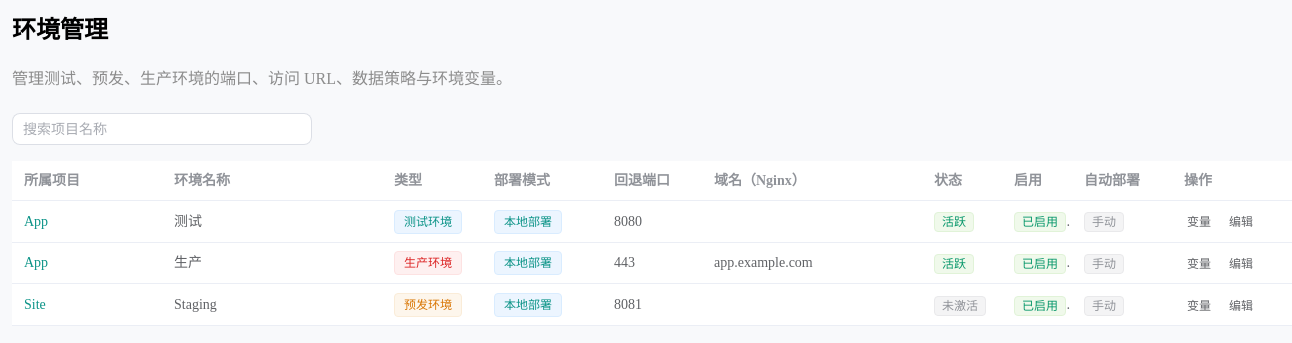
Test: EnvironmentListPage › EL.2 the search input filters by project name
Type "App" into the field with placeholder "搜索项目名称".
click(162, 129); type("App")  # box [23,114,301,144]
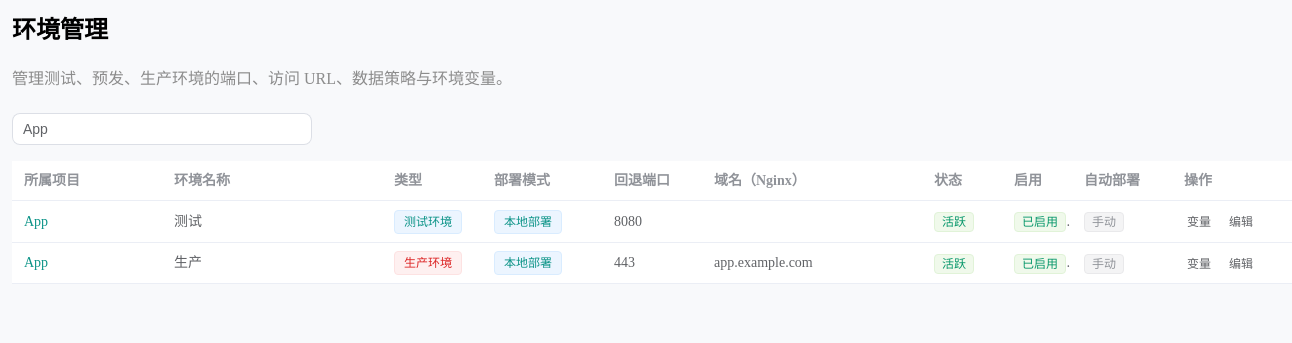
Expected: the text "测试" is shown, [12,70,512,87]
Now the text "Staging" is gone
Replace the text in the field with placeholder "搜索项目名称" with "Site" at (162, 129), box [23,114,301,144]
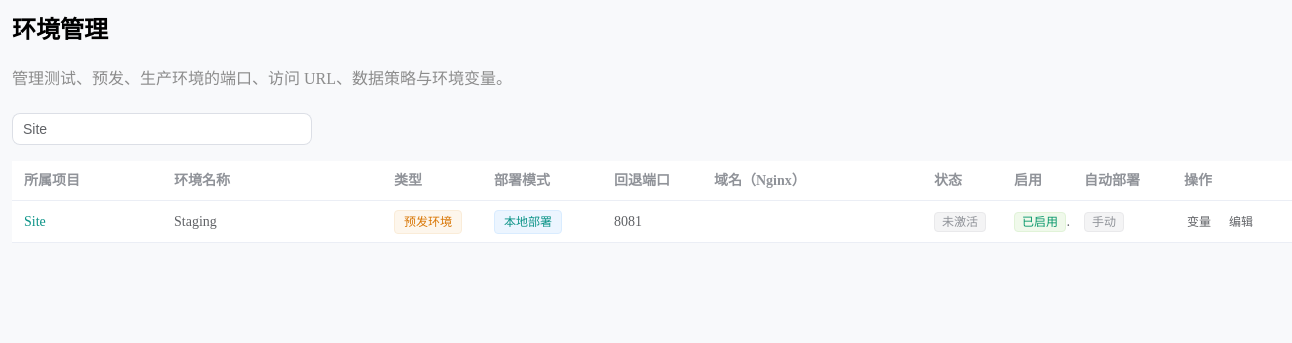
Now the text "Staging" is shown, box [174,214,217,229]
